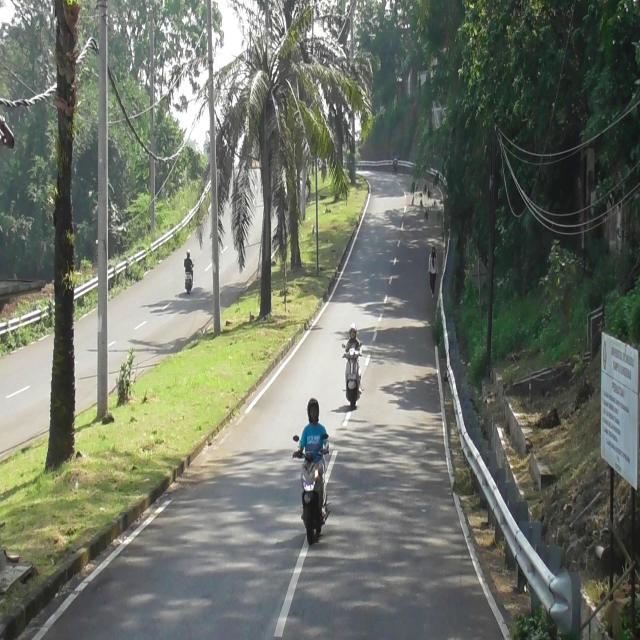motorcycle: (298, 449, 328, 542), (345, 348, 362, 409), (184, 270, 194, 294)
person: (296, 395, 330, 460), (344, 324, 361, 355), (185, 252, 194, 270)
rider_region: (296, 392, 331, 556), (343, 325, 362, 412), (184, 250, 195, 294)
